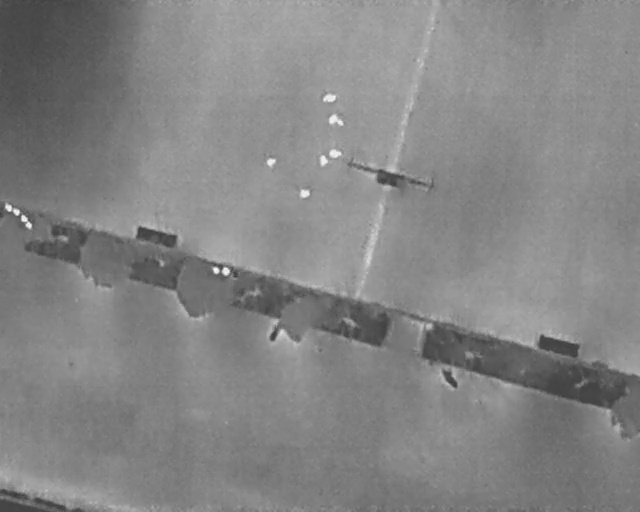Car: (328, 113, 344, 126), (323, 93, 337, 103), (266, 157, 277, 169), (329, 149, 342, 159), (319, 154, 329, 167), (298, 189, 311, 199)
